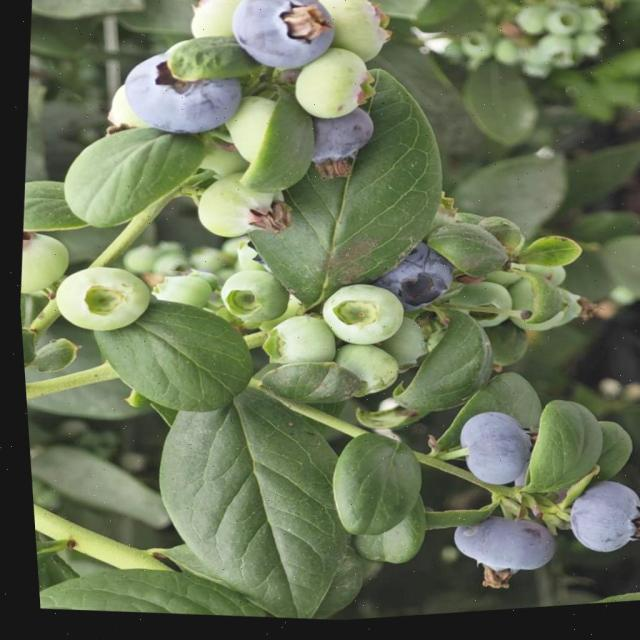RipeBlueBerry: (437, 516, 552, 603), (120, 69, 242, 142), (227, 0, 338, 79), (555, 480, 640, 566), (446, 412, 533, 494), (378, 253, 450, 310)
UnripeBlueBerry: (46, 260, 148, 337), (289, 45, 380, 127), (189, 171, 288, 246), (314, 282, 402, 353), (253, 313, 335, 375), (212, 268, 287, 326)
